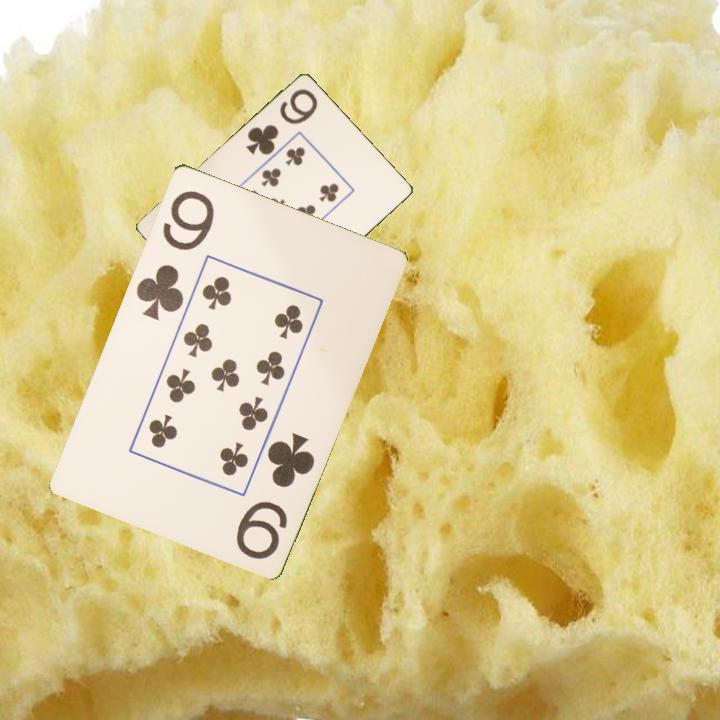9c: (132, 186, 217, 323), (232, 428, 318, 562), (242, 85, 321, 158)
